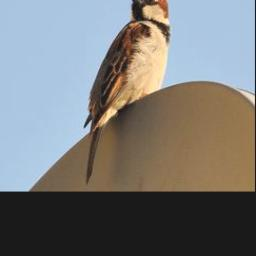Swallow: (84, 0, 173, 184)
